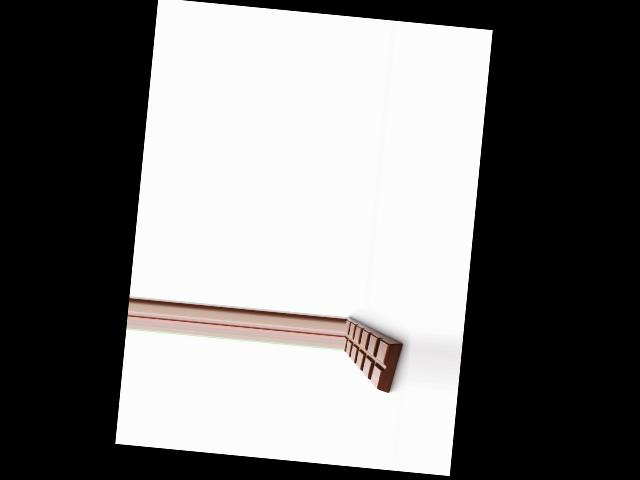chocolate: (340, 312, 406, 394)
